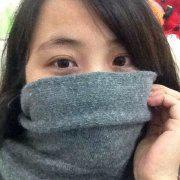OK: (30, 32, 155, 157)
